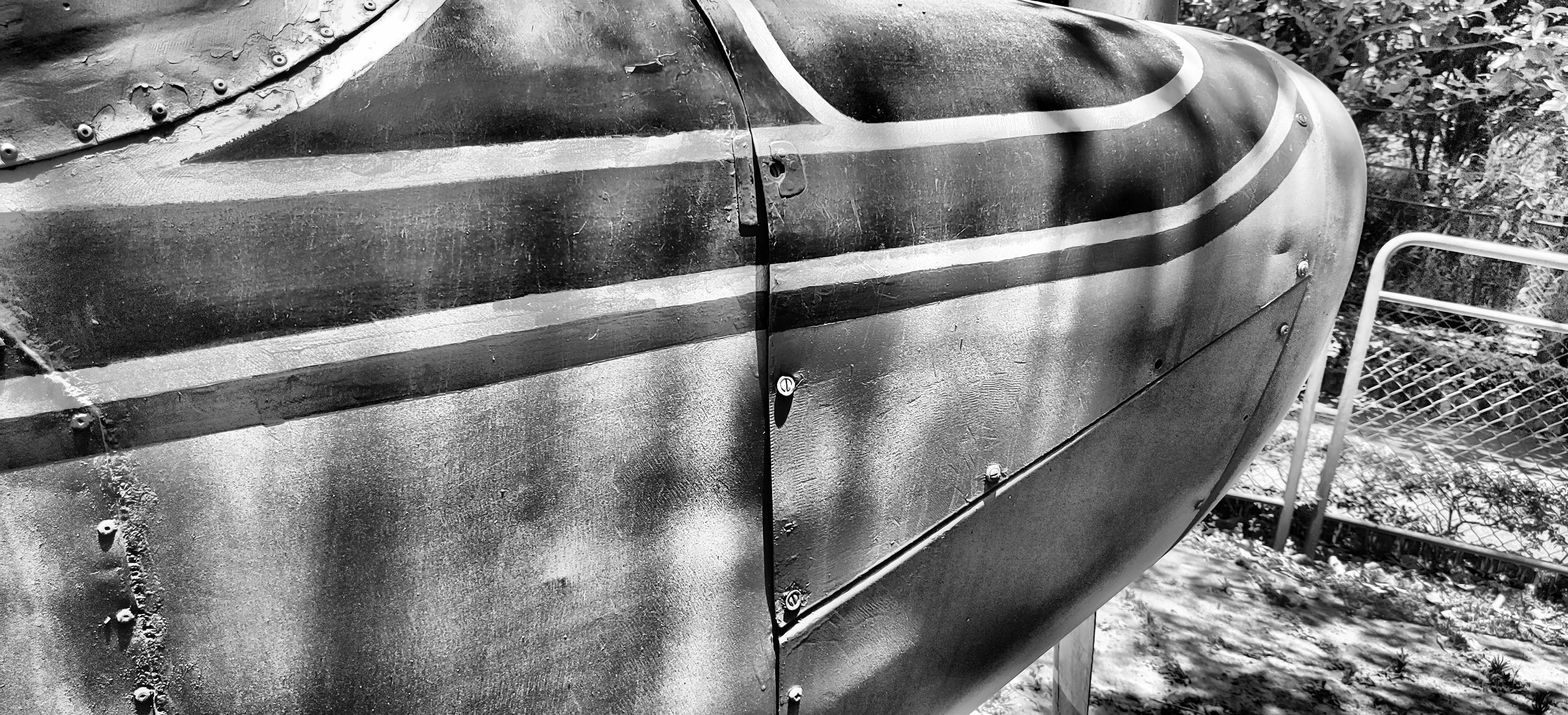dent: (1272, 237, 1298, 257)
missing-head: (766, 159, 788, 178), (1151, 357, 1164, 372), (1242, 414, 1249, 421)
paint-peel-off: (129, 80, 191, 118), (268, 8, 332, 43), (241, 86, 300, 118), (624, 55, 666, 76), (199, 47, 245, 66), (90, 103, 115, 132), (306, 64, 322, 89)
